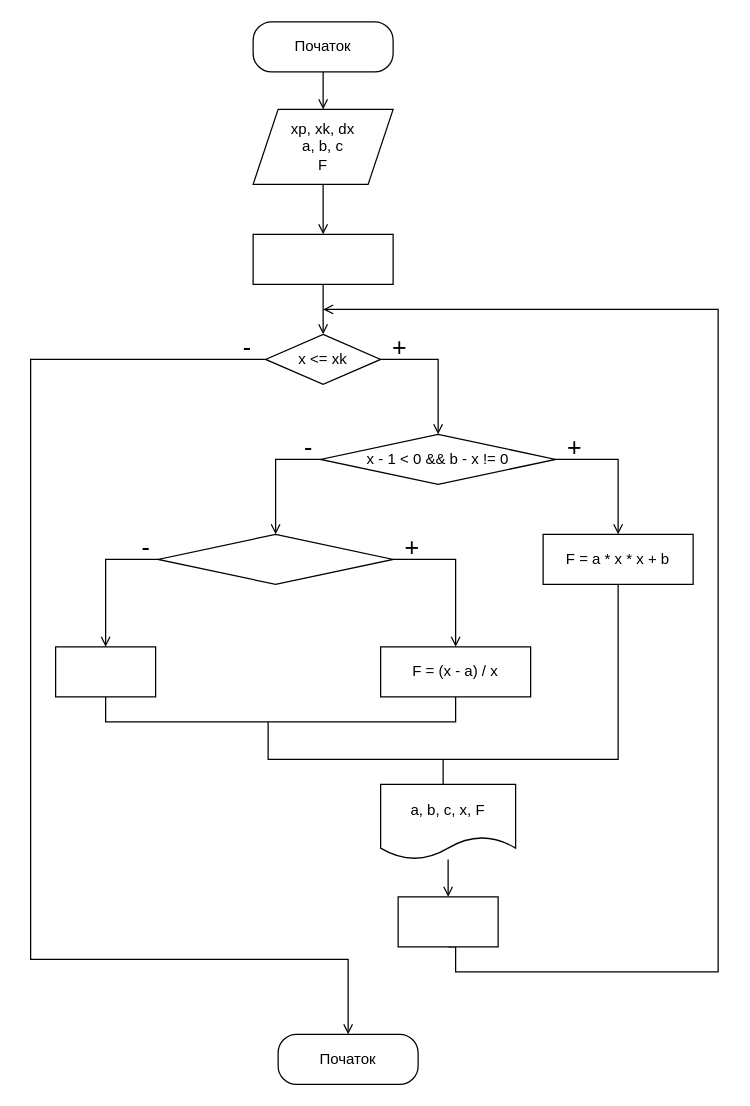
Image size: 750x1106. Some labels were removed from this diagram. The centre of each missing label's shape, as x and y in pixels:
"F = x / c" goes at point (105, 671).
"x += dx" goes at point (447, 921).
"x - 1 > 0 && b + x== 0" goes at point (275, 558).
"x = xp" goes at point (322, 258).
